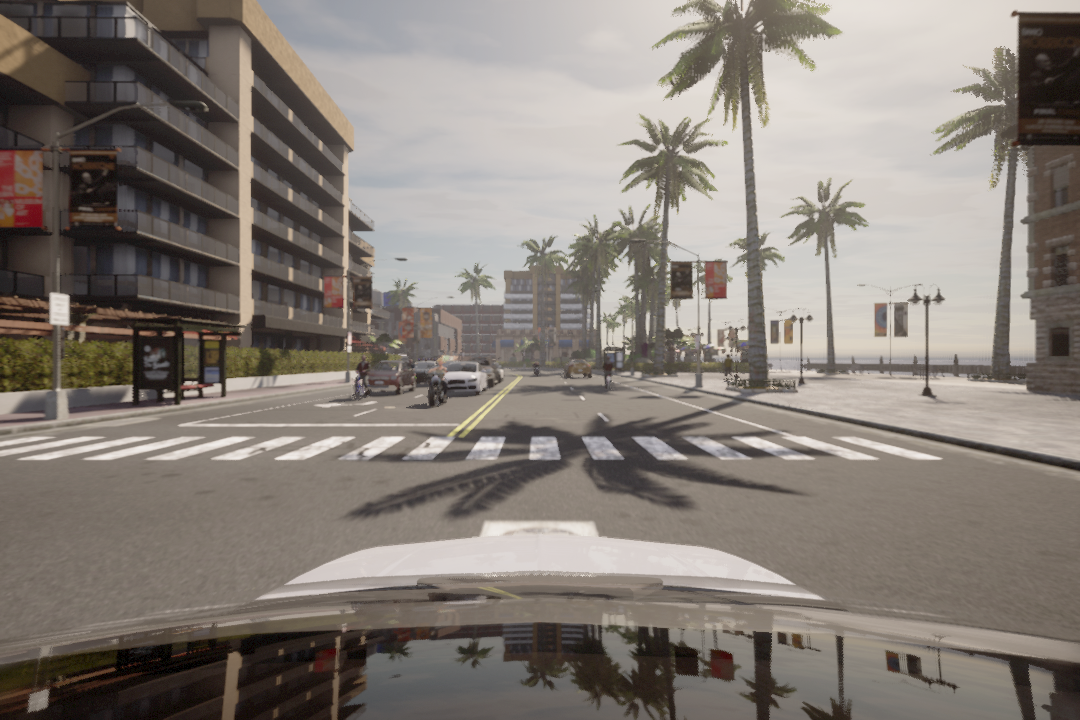RoadSign_right: (308, 396, 376, 411)
walkside: (7, 437, 928, 465)
